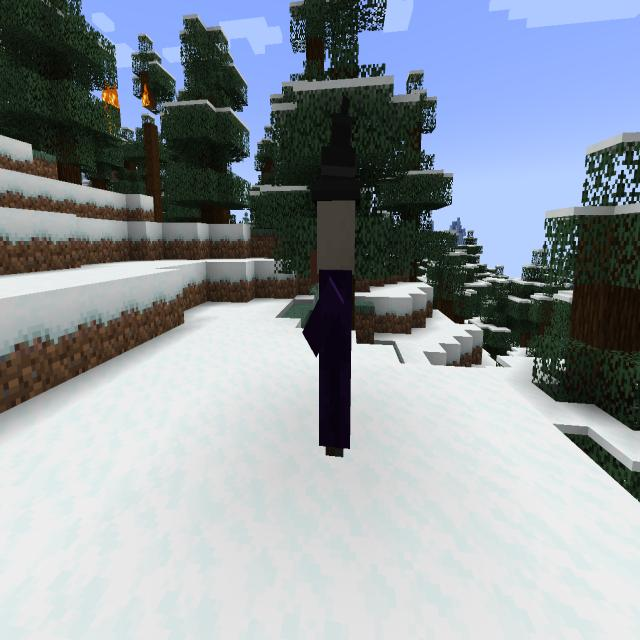Witch: (298, 87, 368, 466)
